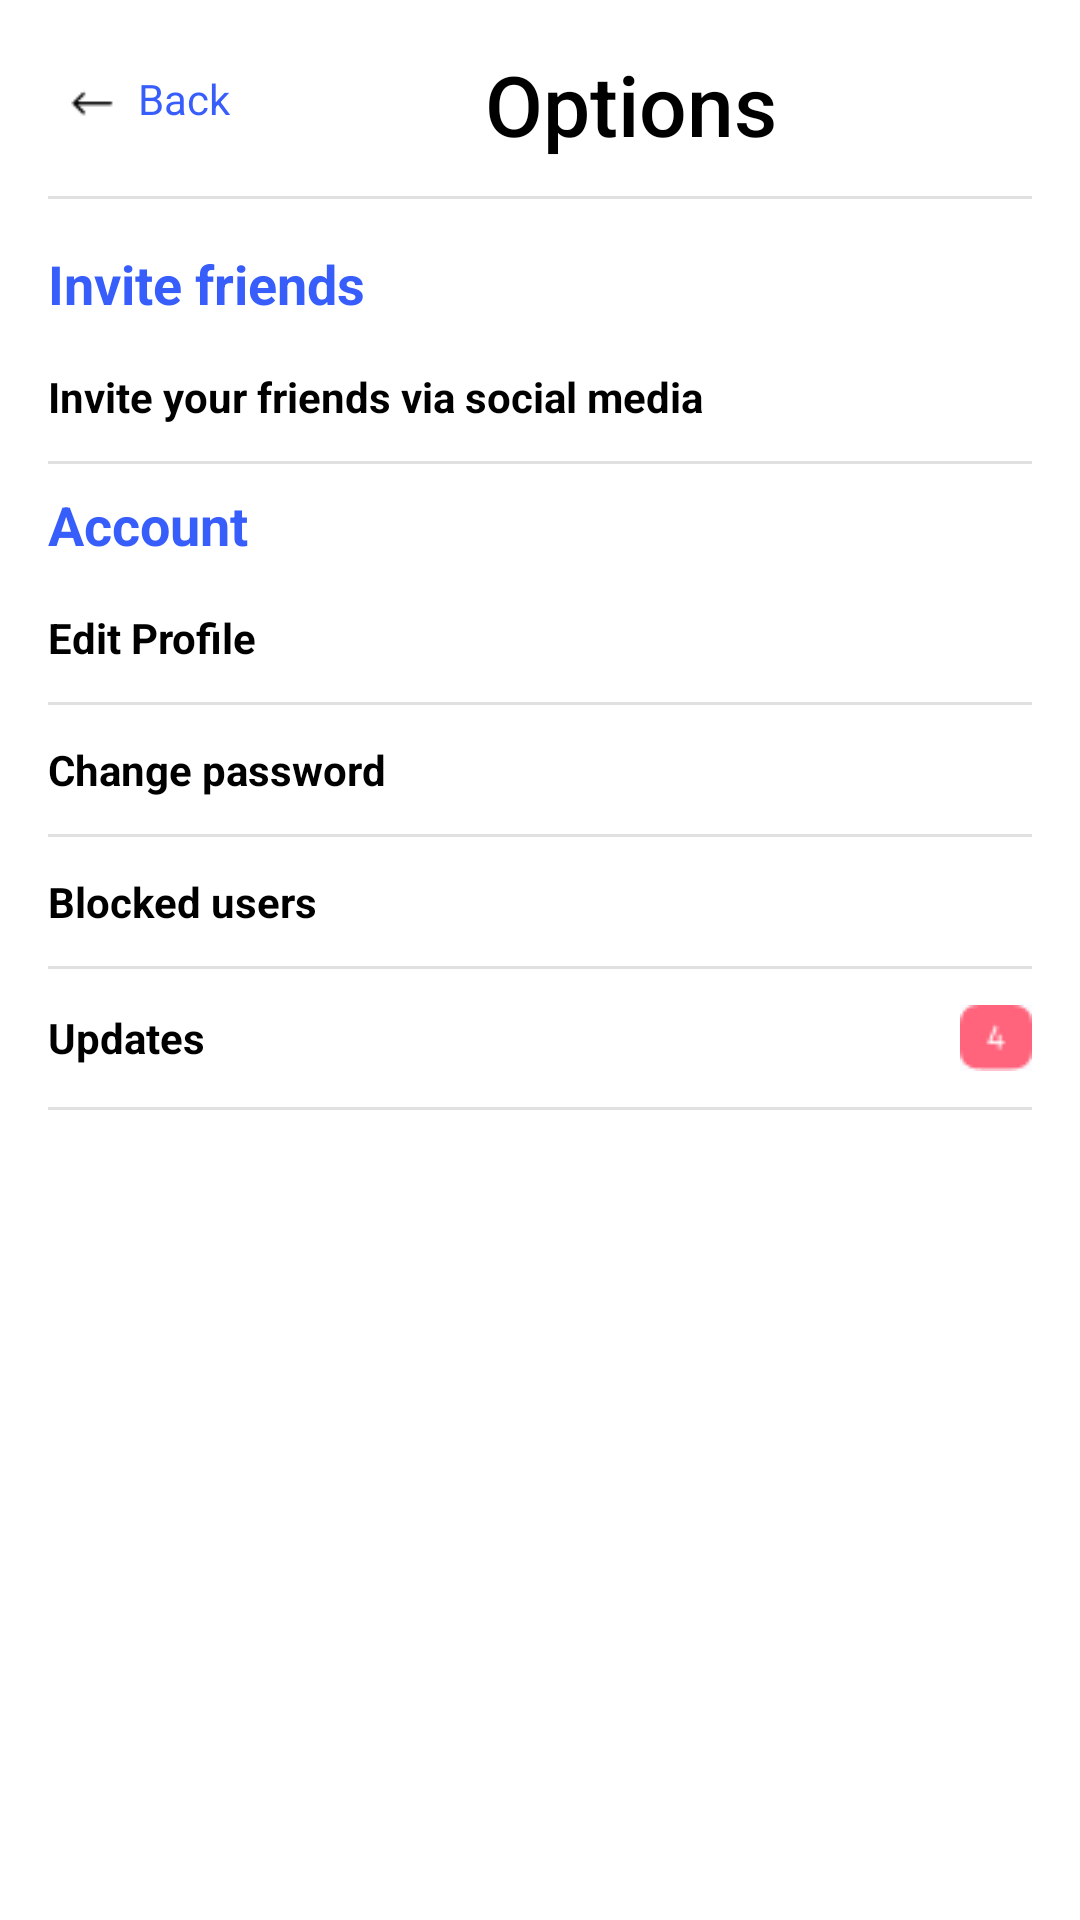

Icons on this 1080w x 1920h Android screen, each with its box as (x1, y1, x2, y2):
settings options updates num: (960, 1005, 1032, 1071)
